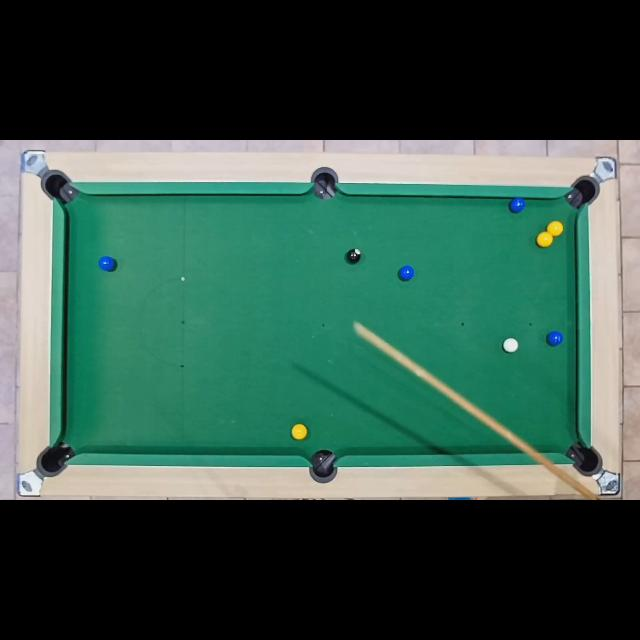Ball: (536, 232, 554, 248), (398, 266, 414, 282), (547, 331, 563, 347), (548, 222, 564, 238), (291, 424, 307, 440), (99, 258, 117, 272), (346, 248, 360, 264), (510, 198, 526, 212), (502, 338, 518, 352)
